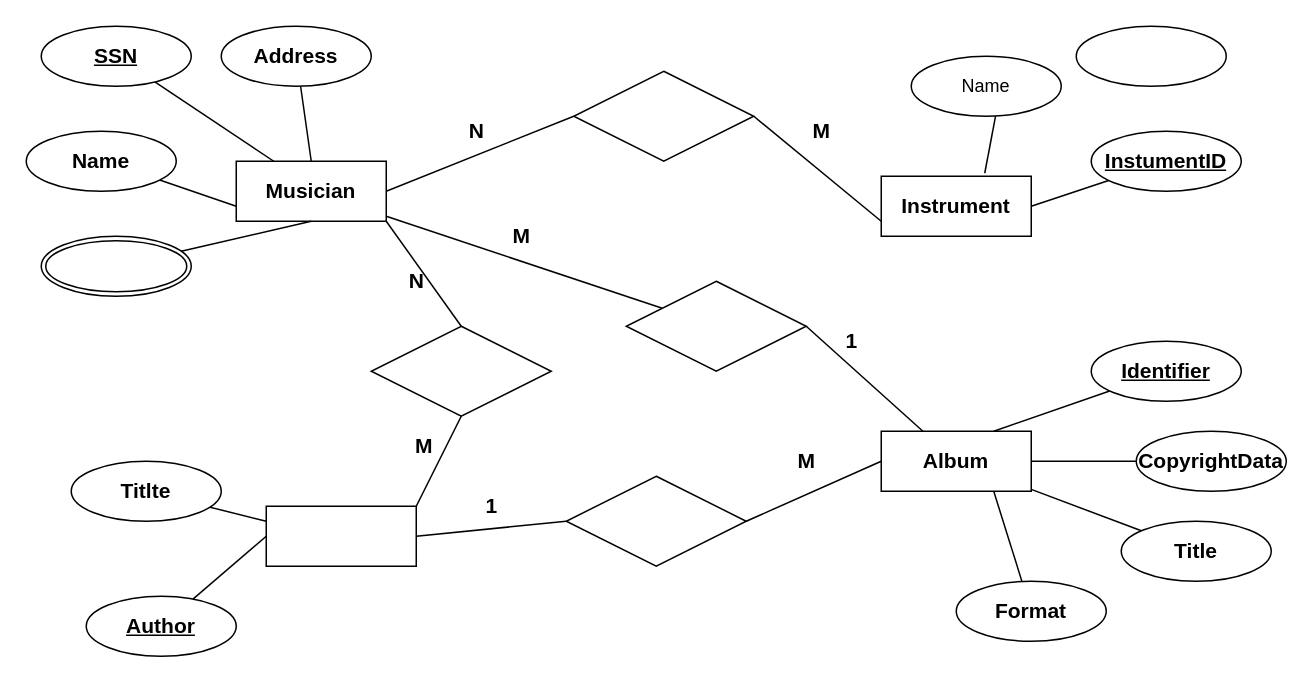
Some shapes in this 1313 by 683 pixel diagram are drawn without their labels. Here are the shapes that lost their labels. From the top down, the centre of each, then its label:
At [1150,55]: "MusicKey".
At [663,115]: "play".
At [115,265]: "PhoneNo".
At [715,325]: "Produce".
At [460,370]: "Sing".
At [340,535]: "Song".
At [655,520]: "Has".
